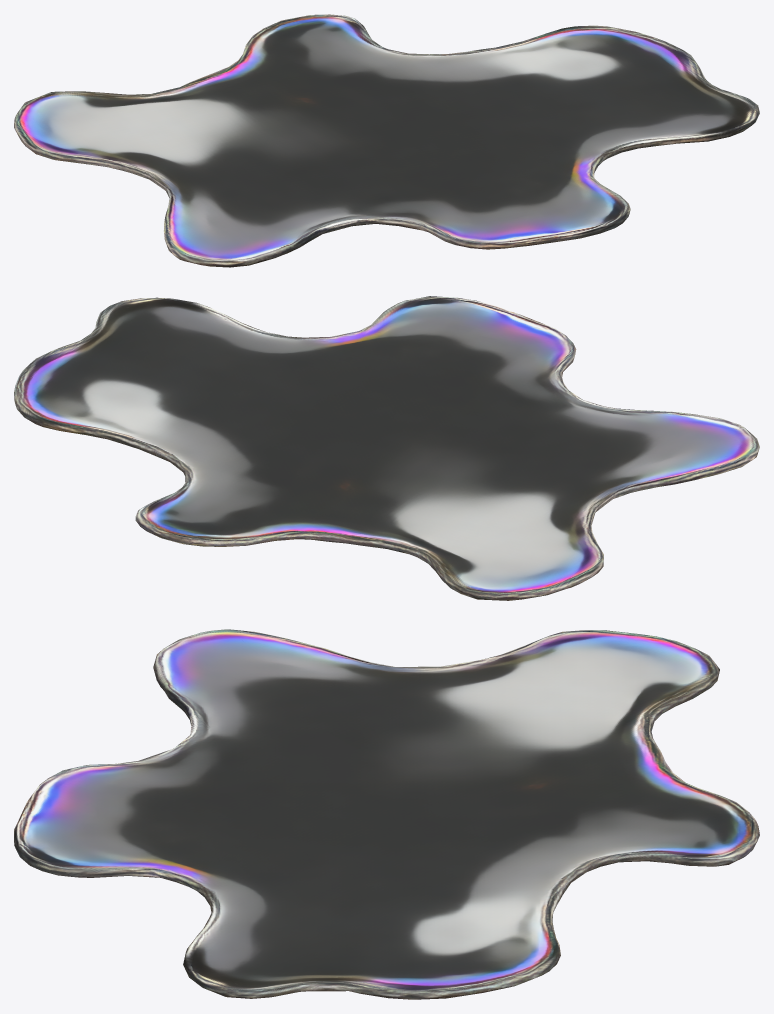
3 views of the same model, one above another, from view 1: azimuth 30°, elevation 25°; view 2: azimuth 150°, elevation 25°; view 3: azimuth 270°, elevation 25° (orthographic). The views are drawn at different scales.
Parts seen in each view (by area): view 1: model; view 2: model; view 3: model.
Boxes of the visible parts, <box> form: model: <box>14,14,759,267</box>; model: <box>14,296,759,600</box>; model: <box>14,629,759,999</box>.
Bounding box in the file's own units: 1.89 × 0.0214 × 1.64.
Materials: 1 (1 with a texture image).
